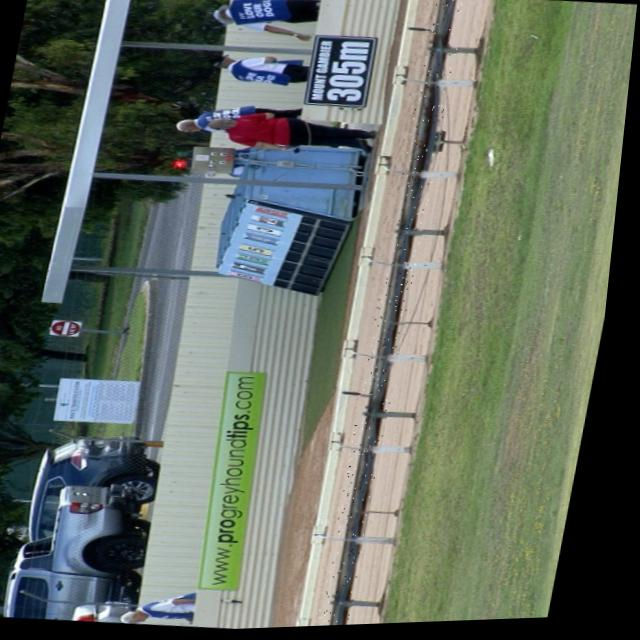rail: (343, 0, 457, 629)
